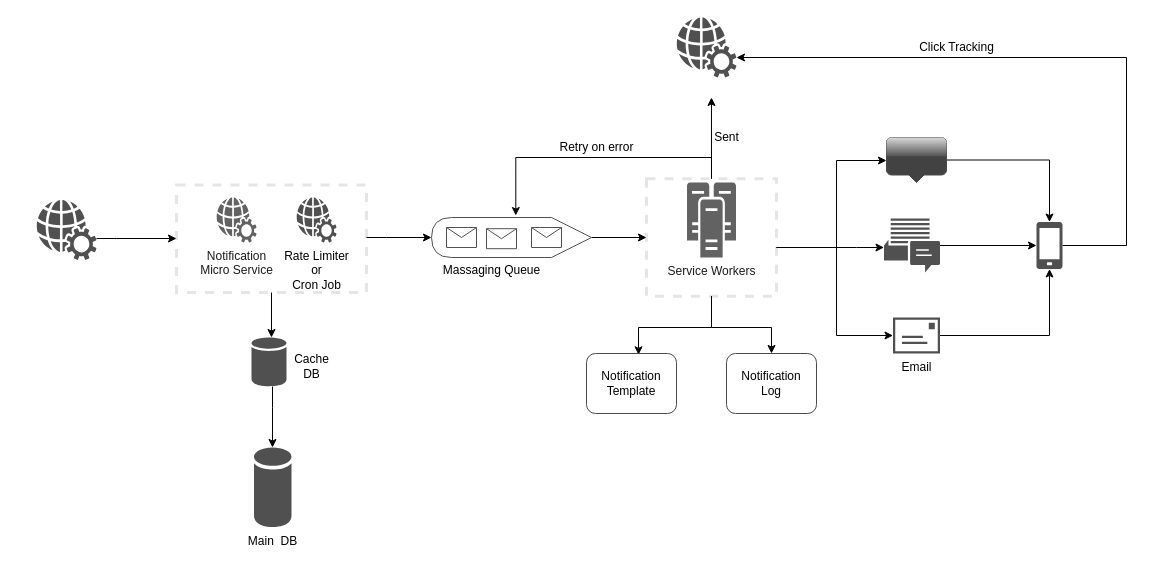
This 1152x565 diagram has some shape labels left out. Here are the shapes that lost their labels. From the top down, the centre of each, then its label:
At point 706,47: "Analytics Service".
At point 916,159: "Push Notification".
At point 66,230: "Micro Service N".
At point 912,245: "SMS".
